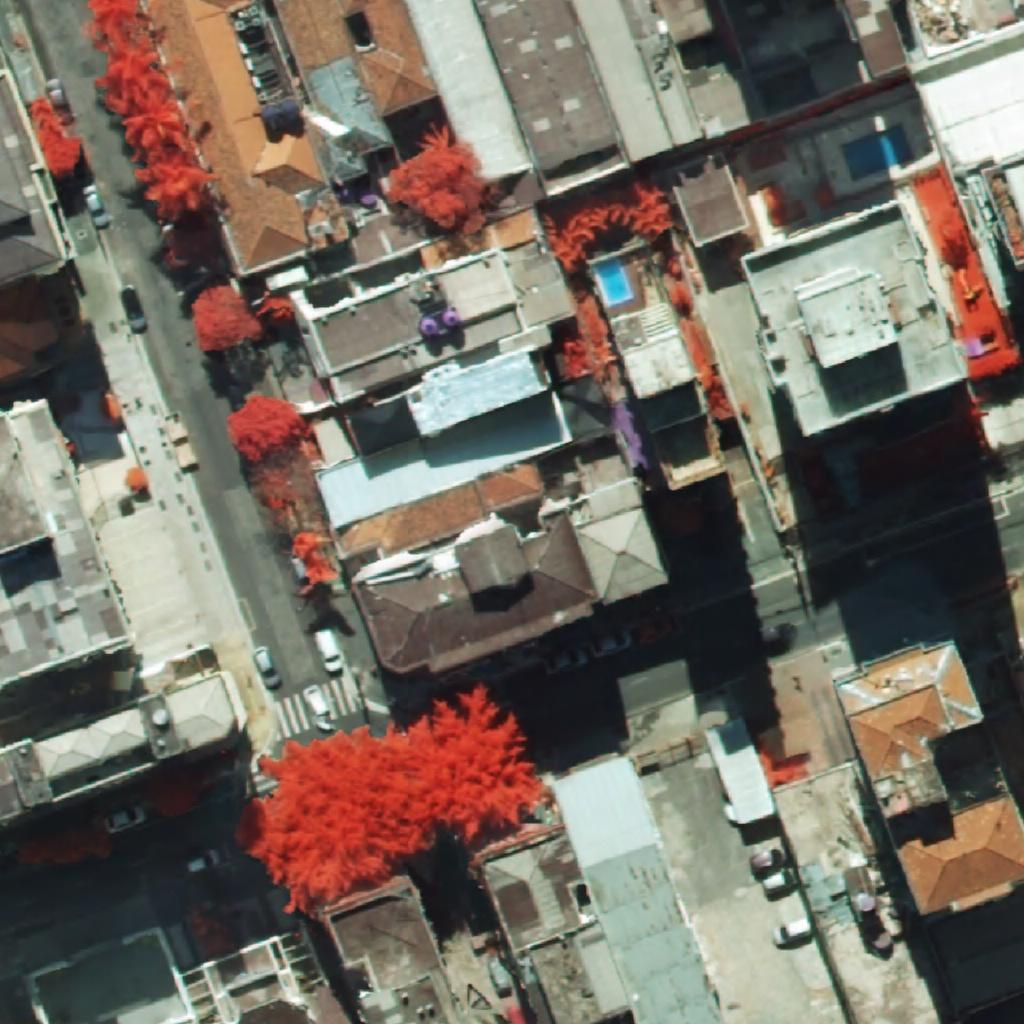pool: (842, 125, 913, 181), (596, 258, 629, 302)
